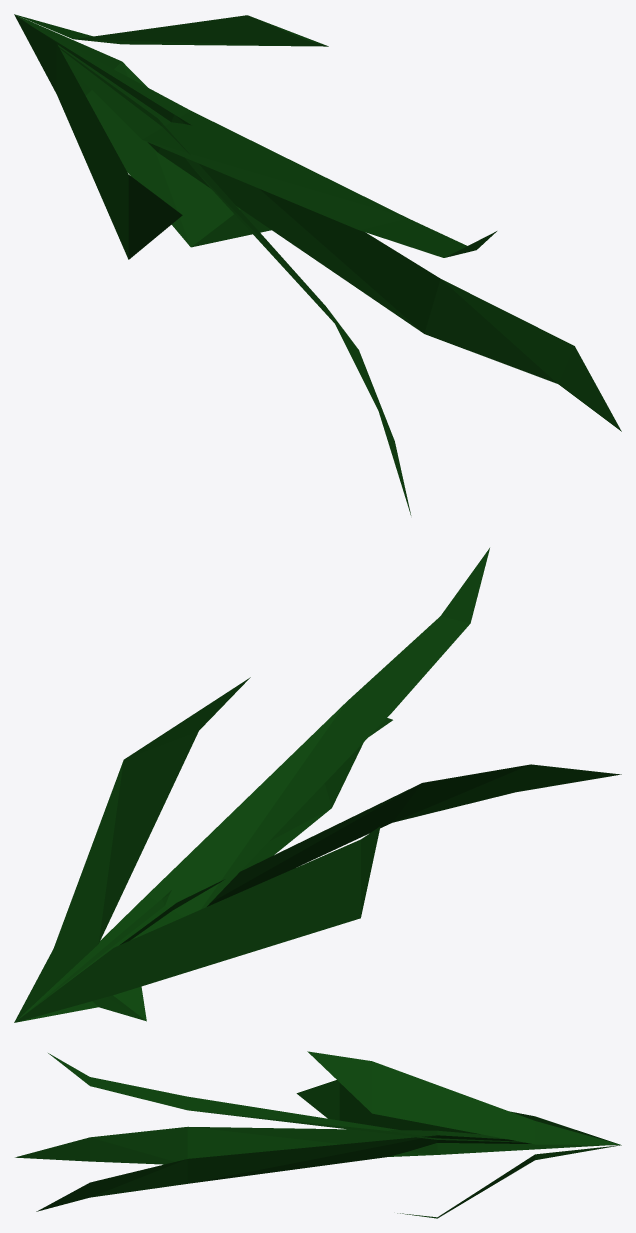
Rendered from stage_2.obj.
3 views of the same model, one above another, from view 1: azimuth 30°, elevation 25°; view 2: azimuth 150°, elevation 25°; view 3: azimuth 270°, elevation 25° (orthographic). The views are drawn at different scales.
Visible parts, largest first — view 1: onion_stage2; view 2: onion_stage2; view 3: onion_stage2.
Part boxes in pixels (left/top/right/bottom): onion_stage2: left=14, top=14, right=621, bottom=515; onion_stage2: left=14, top=548, right=621, bottom=1022; onion_stage2: left=15, top=1051, right=621, bottom=1218.
Bounding box in the file's own units: 0.077 × 0.0935 × 0.308.
